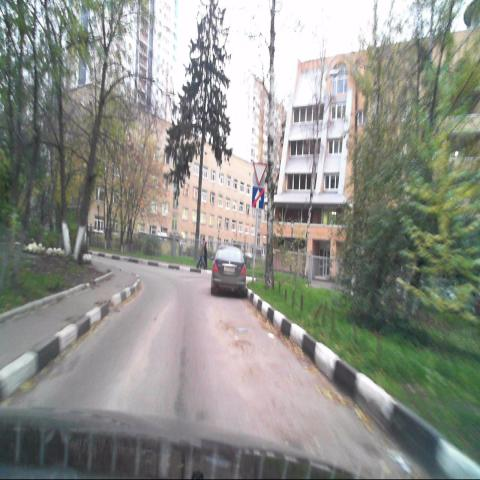5_6: (252, 186, 264, 208)
